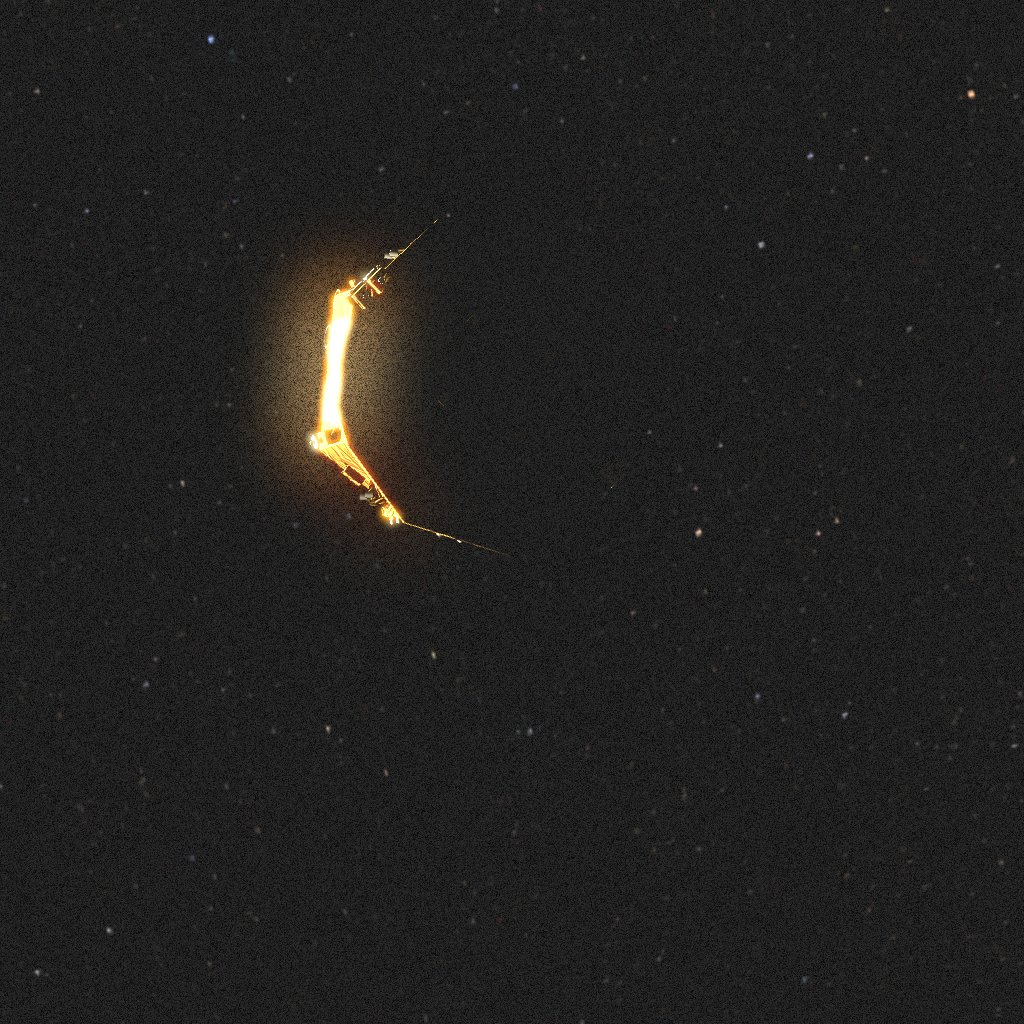lisa_pathfinder: (295, 246, 630, 543)
